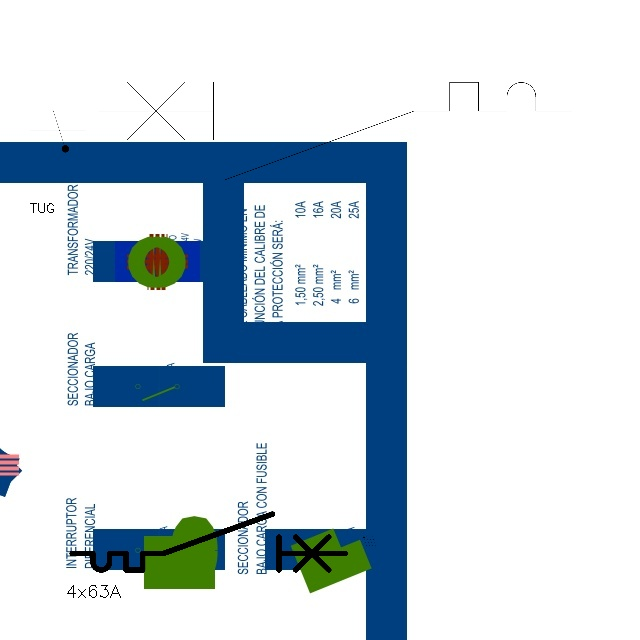interruptor_termomagnetico: (86, 70, 584, 192), (65, 507, 353, 577)
